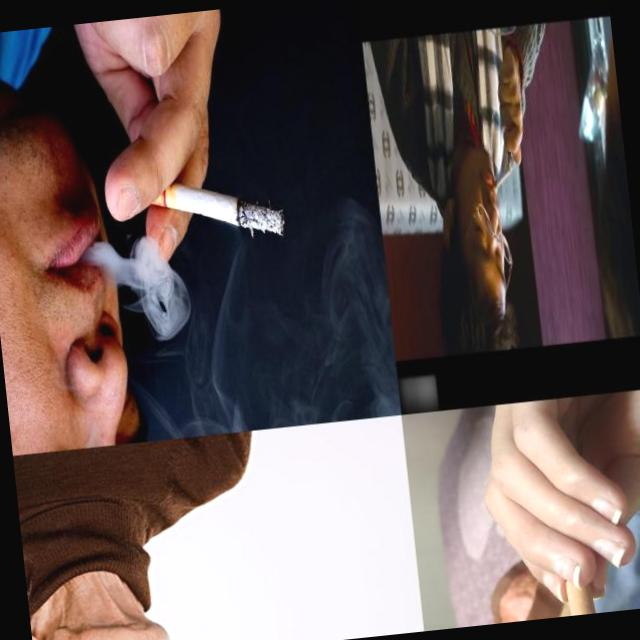cigarette: (123, 152, 284, 252), (488, 160, 514, 198)
